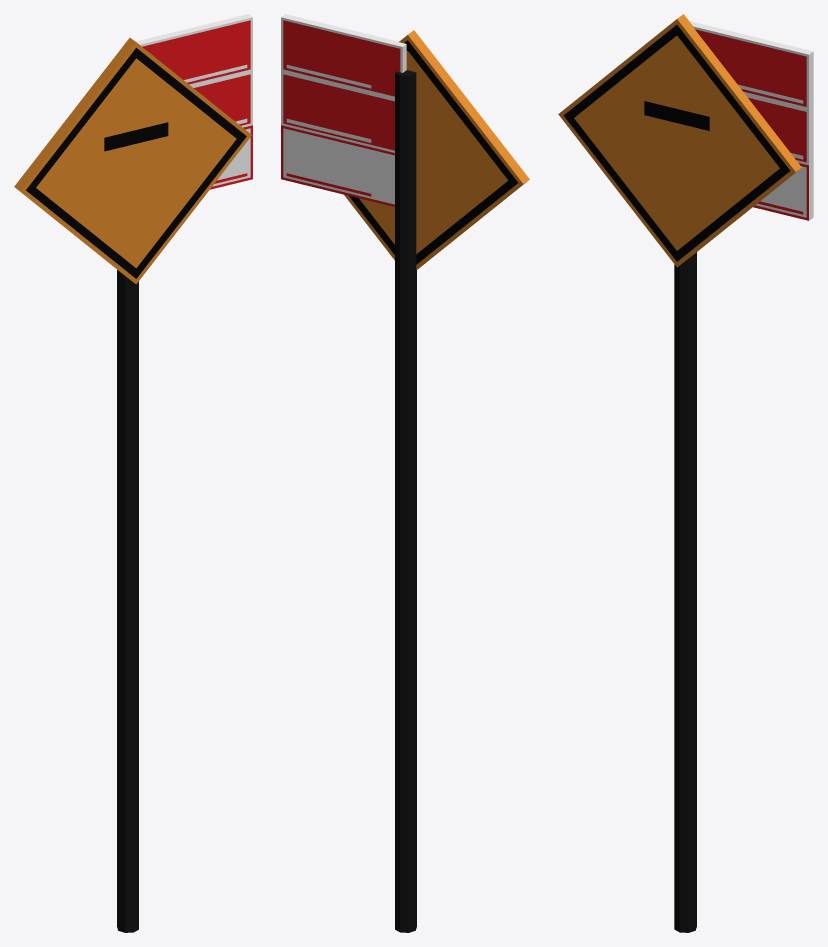
File: SignPosts.fbx
3 views of the same model, side by side, from view 1: azimuth 30°, elevation 25°; view 2: azimuth 150°, elevation 25°; view 3: azimuth 330°, elevation 25° (orthographic). The views are drawn at different scales.
Visible parts, largest first — view 1: SignPost_1, SignPost, SignPost_0; view 2: SignPost_0, SignPost, SignPost_1; view 3: SignPost_1, SignPost, SignPost_0.
Part boxes in pixels (bbox=[...]): SignPost_1: bbox=[14, 37, 251, 284]; SignPost: bbox=[117, 270, 138, 932]; SignPost_0: bbox=[136, 14, 252, 189]; SignPost_0: bbox=[281, 14, 406, 206]; SignPost: bbox=[395, 70, 416, 932]; SignPost_1: bbox=[344, 30, 529, 269]; SignPost_1: bbox=[558, 14, 801, 267]; SignPost: bbox=[674, 252, 696, 932]; SignPost_0: bbox=[689, 21, 813, 220].
Size of the model in its own units: 0.8736 by 0.0888 by 3.12.
